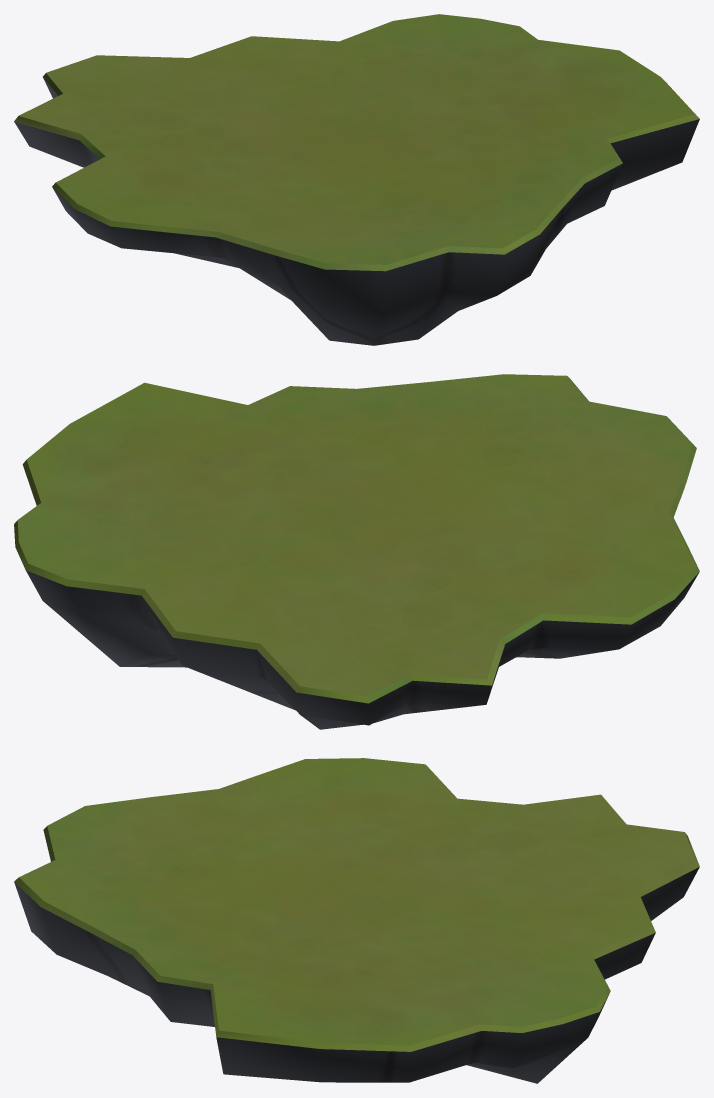
Rendered from small_island_2.fbx.
3 views of the same model, one above another, from view 1: azimuth 30°, elevation 25°; view 2: azimuth 150°, elevation 25°; view 3: azimuth 270°, elevation 25° (orthographic). The views are drawn at different scales.
Visible parts, largest first — view 1: Cylinder.020; view 2: Cylinder.020; view 3: Cylinder.020.
Boxes of the visible parts, x1,y1,x2,y2 form: Cylinder.020: (14, 14, 699, 345); Cylinder.020: (14, 374, 699, 729); Cylinder.020: (14, 758, 699, 1083).
Size of the model in its own units: 3669 by 935 by 3660.
